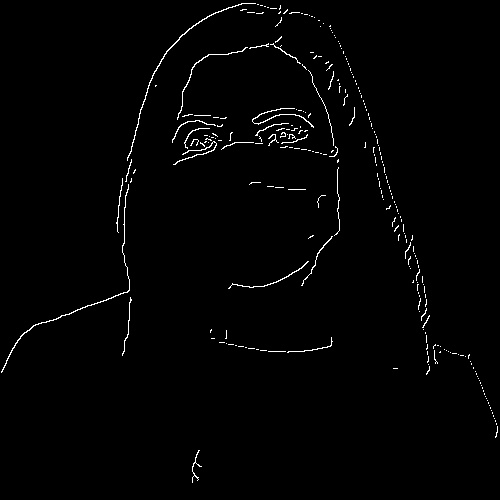mask: (170, 147, 347, 288)
